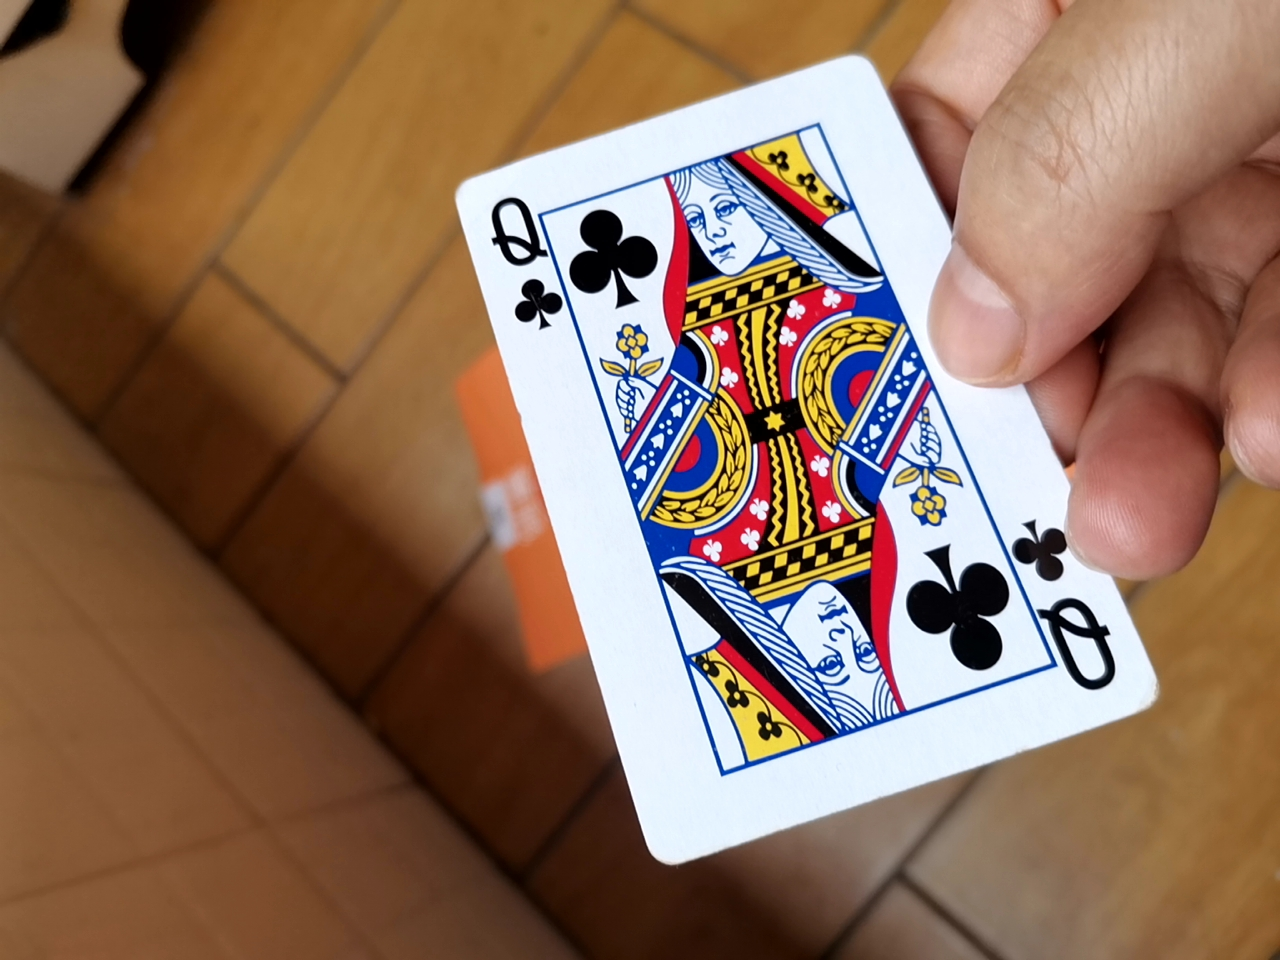mh q: (413, 53, 1141, 897)
